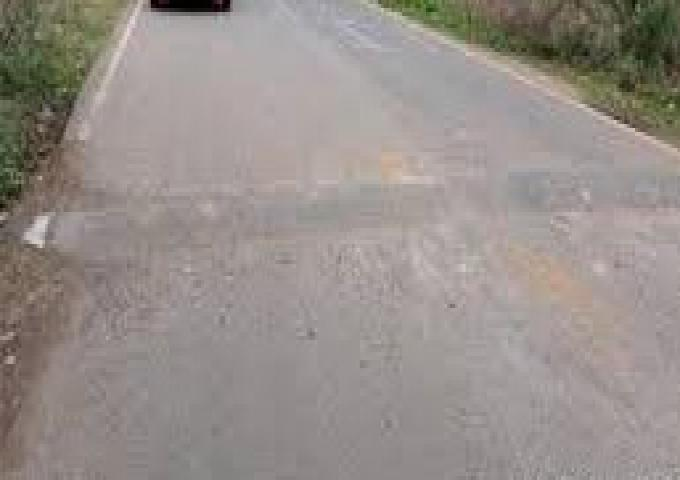speedbreaker: (0, 140, 678, 269)
